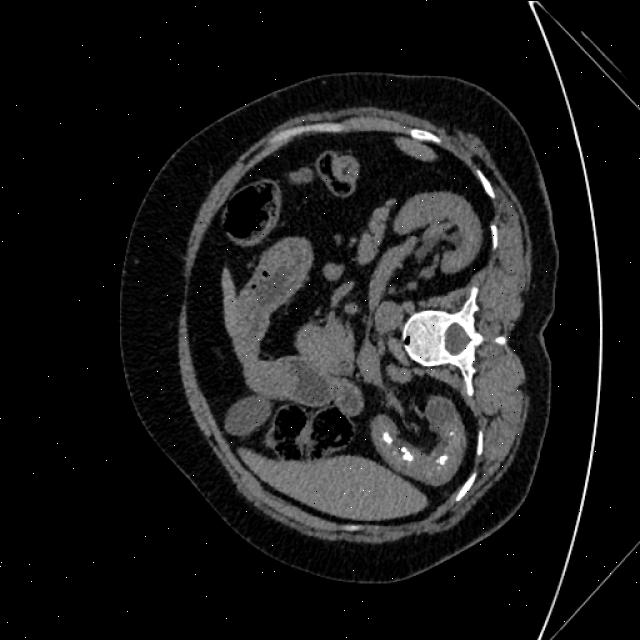kidneystone: (382, 430, 393, 444), (401, 446, 412, 460)
